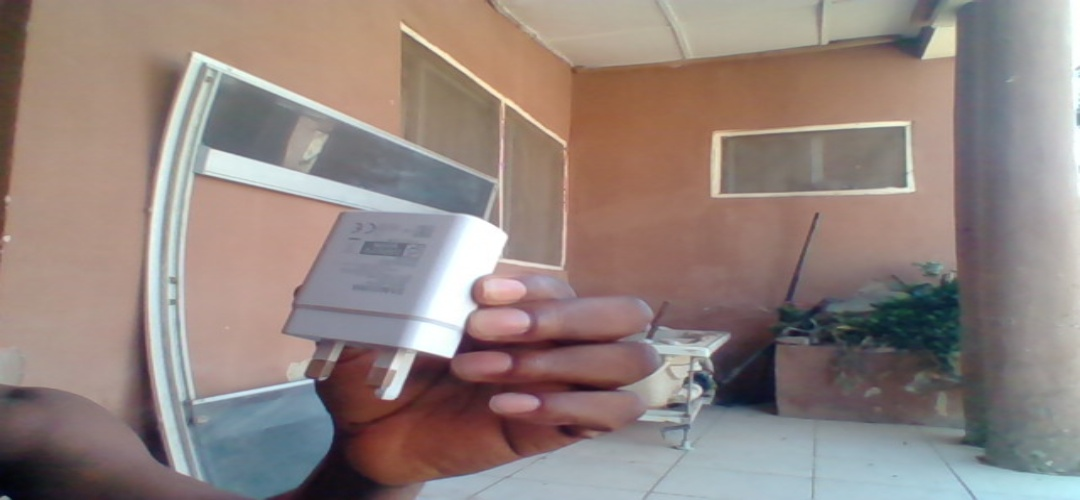phone_charger: (279, 200, 513, 402)
